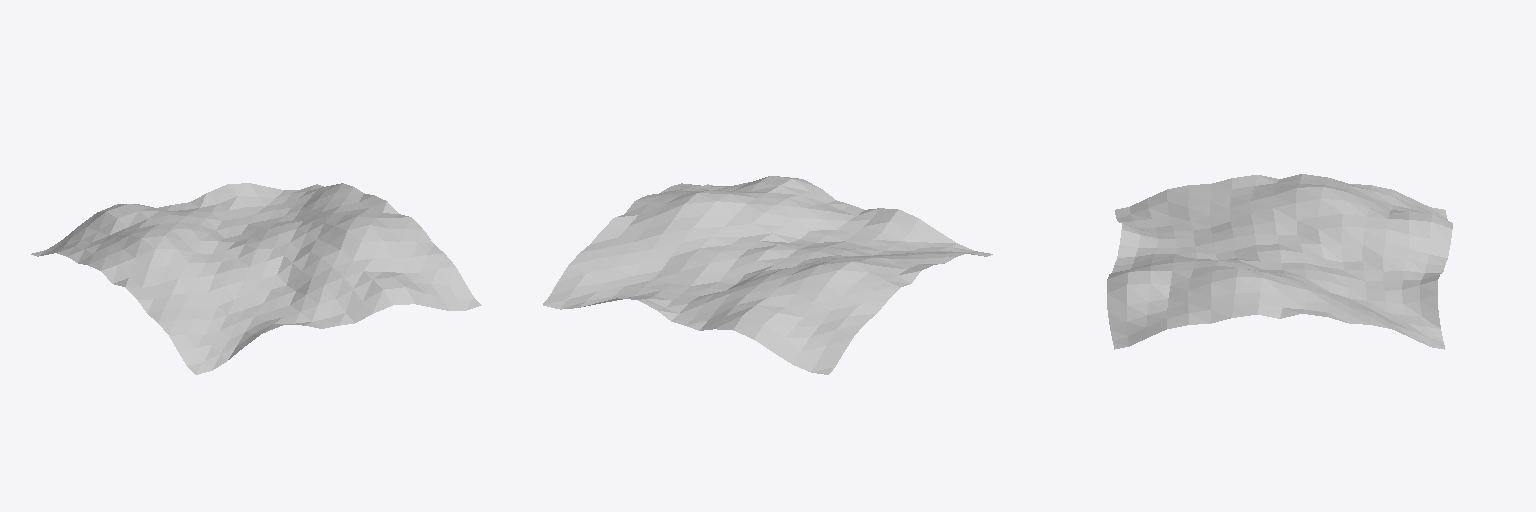
File: water_000172.obj
3 renders of one model, left to right at view 1: azimuth 30°, elevation 25°; view 2: azimuth 150°, elevation 25°; view 3: azimuth 270°, elevation 25°, orthographic.
Parts seen in each view (by area): view 1: Plan.003_Plan.001; view 2: Plan.003_Plan.001; view 3: Plan.003_Plan.001.
Part boxes in pixels (left/top/right/bottom): Plan.003_Plan.001: left=31, top=183, right=481, bottom=374; Plan.003_Plan.001: left=543, top=176, right=992, bottom=374; Plan.003_Plan.001: left=1107, top=174, right=1452, bottom=349.
Bounding box in the file's own units: 60703 × 9820 × 63245.